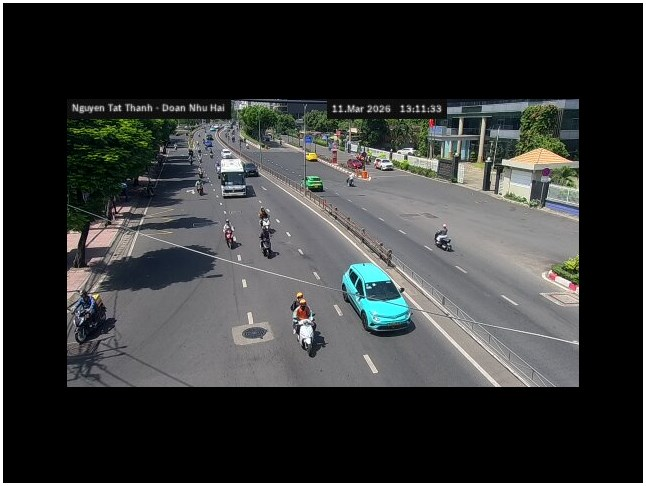car: (341, 260, 414, 333), (303, 175, 325, 192), (375, 159, 394, 171)
motorbike: (292, 315, 326, 357), (292, 317, 317, 353), (259, 225, 279, 258), (306, 328, 327, 358), (223, 220, 241, 250), (434, 227, 454, 252)
truck: (218, 160, 249, 198)
